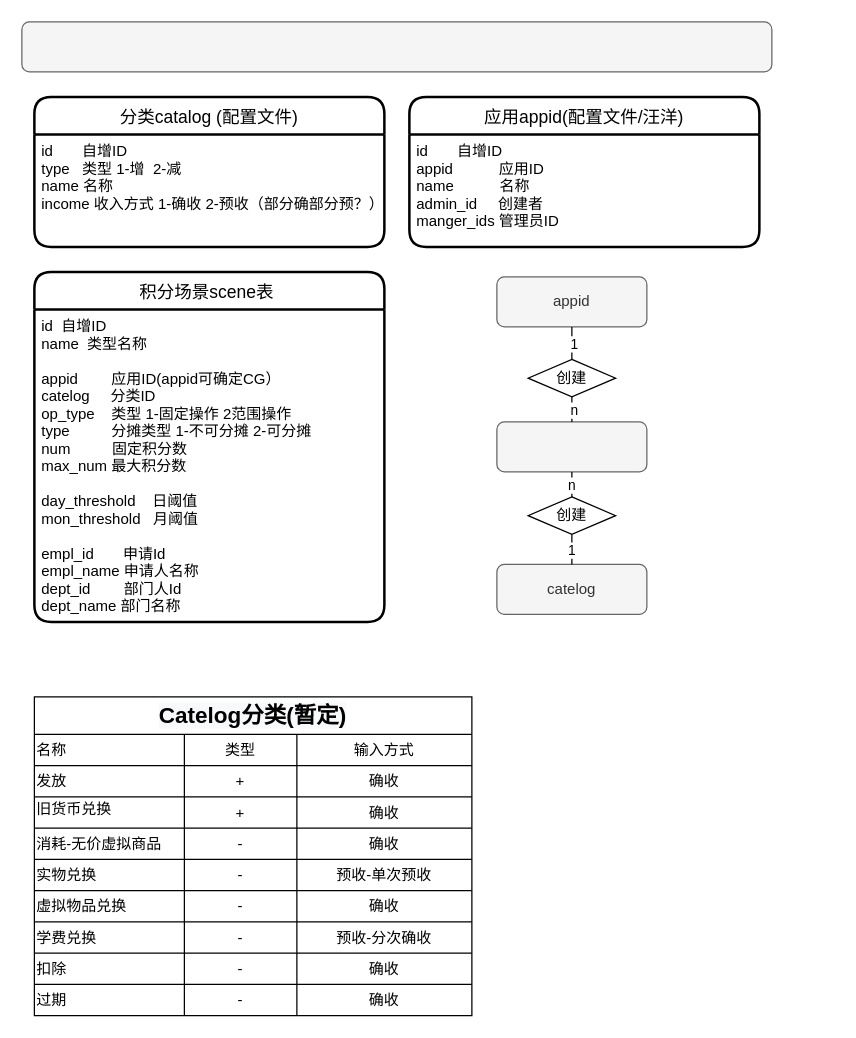
This 856x1038 diagram has some shape labels left out. Each missing label, with the centre of its shape:
scene_id: the point at 571,446
积分类型管理: the point at 396,46
